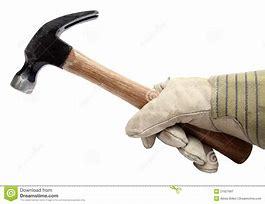hammer: (8, 7, 255, 174)
